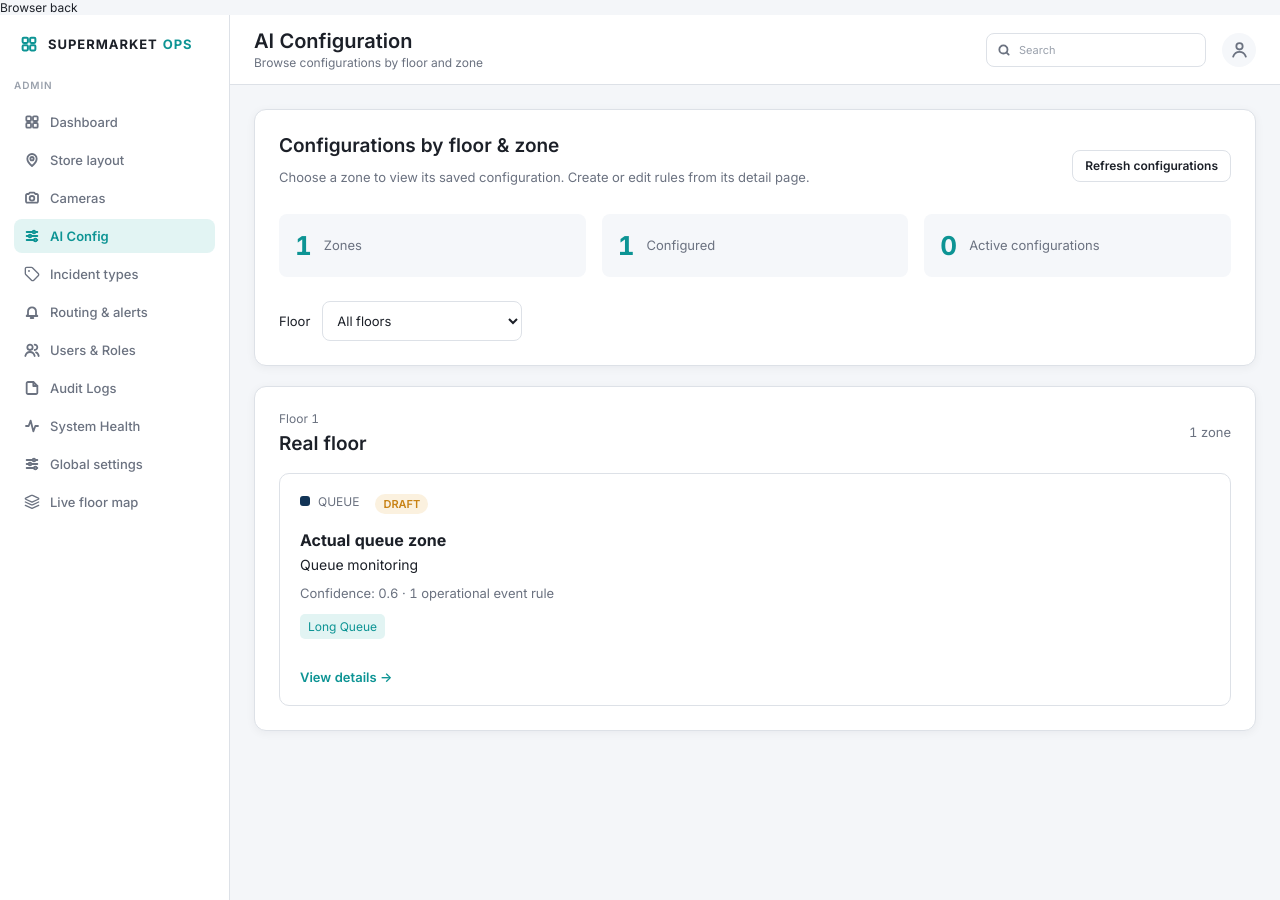
it: API-backed monitoring configuration › opens read-only detail, then Edit and Cancel discard input without an API write
Step 1. Click the button with aria-label "Open AI configuration for Actual queue zone" → (755, 589), box [279,473,1231,706]
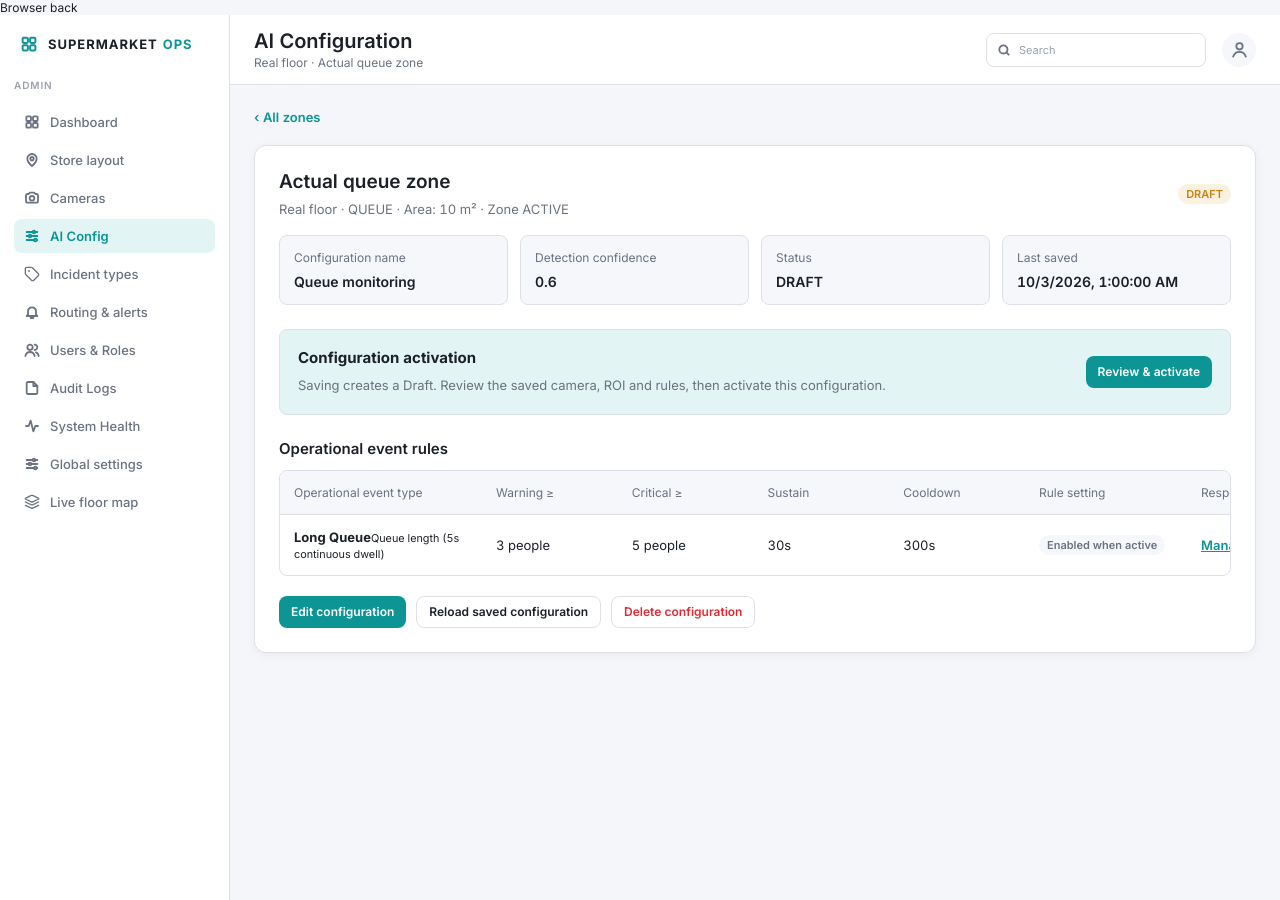
Step 2. Click the button "Edit configuration" → (343, 612), box [279,596,406,628]
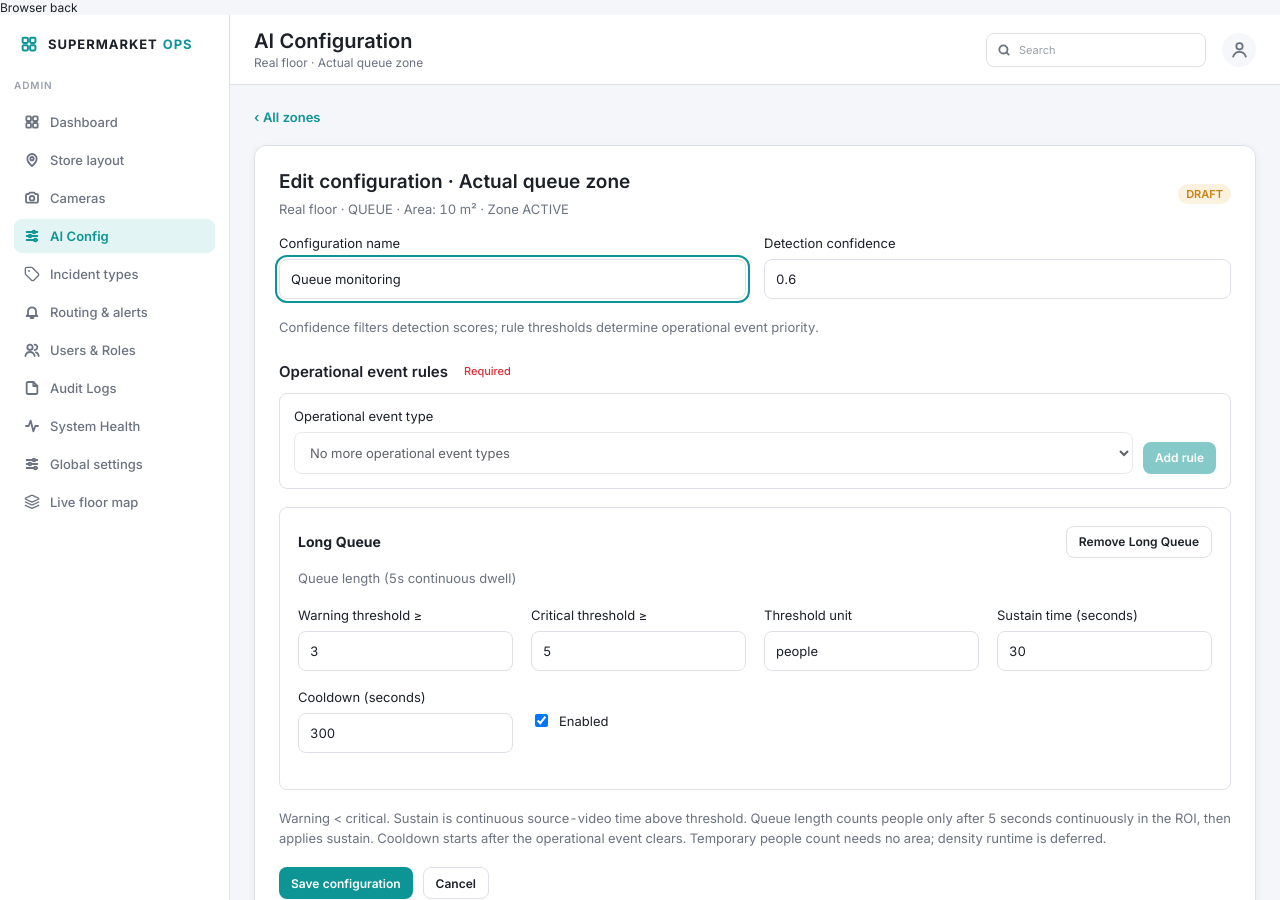
Step 3. Replace the text in the field labelled "Configuration name" with "Unsaved change" → (512, 279), box [279,259,746,299]
(page scrolled)
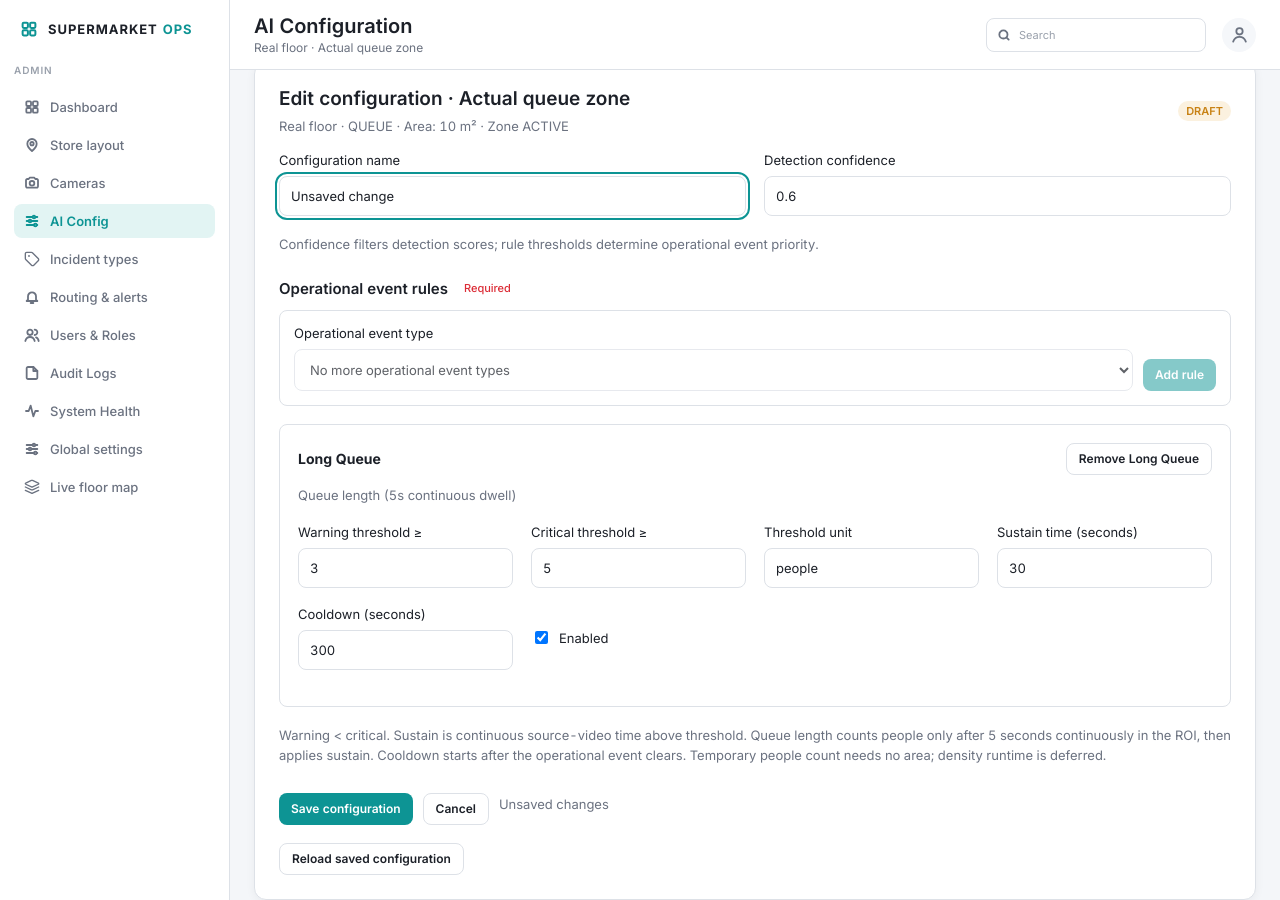
Step 4. Click the button "Cancel" → (456, 809), box [423,793,489,825]
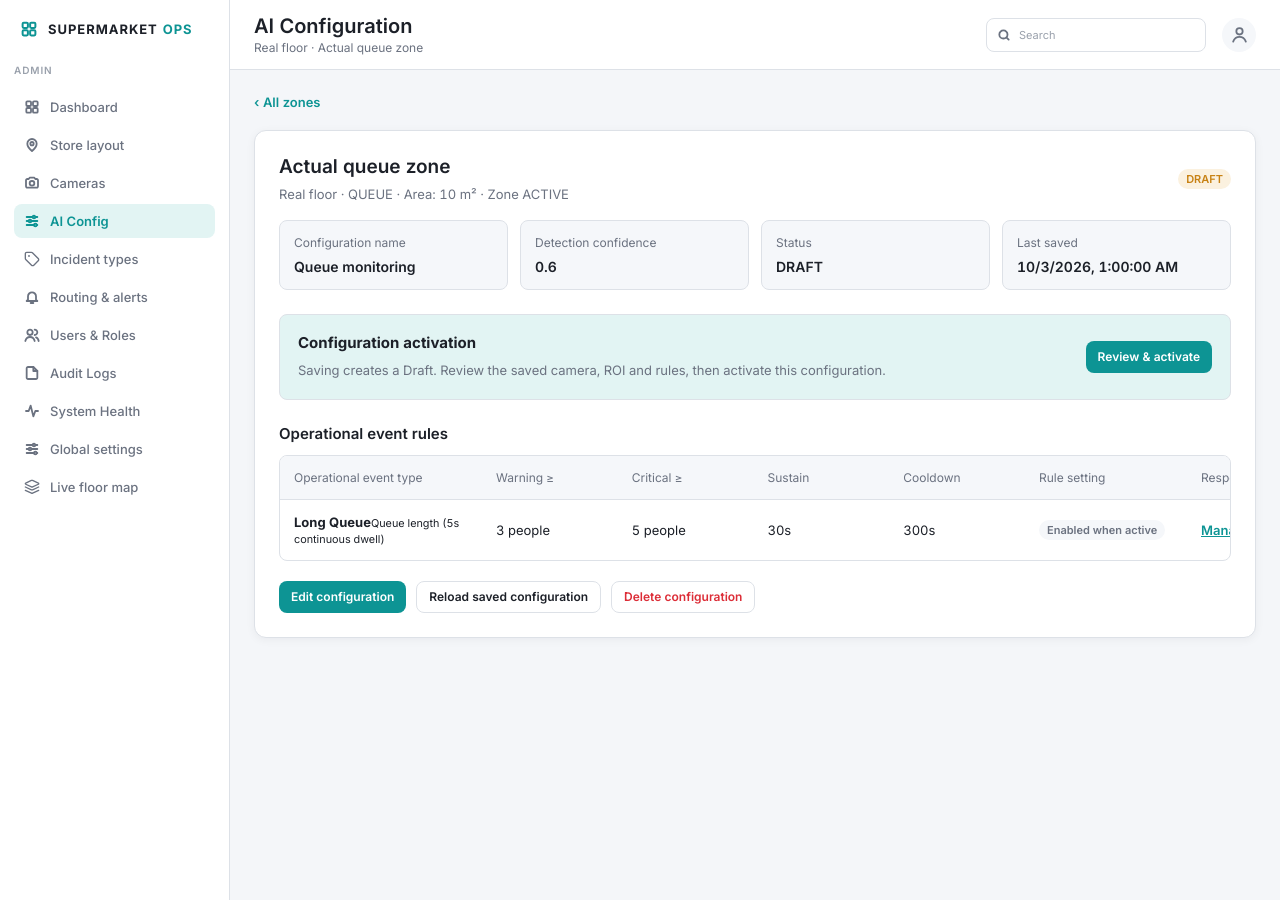
Now the heading "Actual queue zone" is shown, box [279,155,450,178]
Step 5. Click the button "Edit configuration" → (343, 597), box [279,581,406,613]
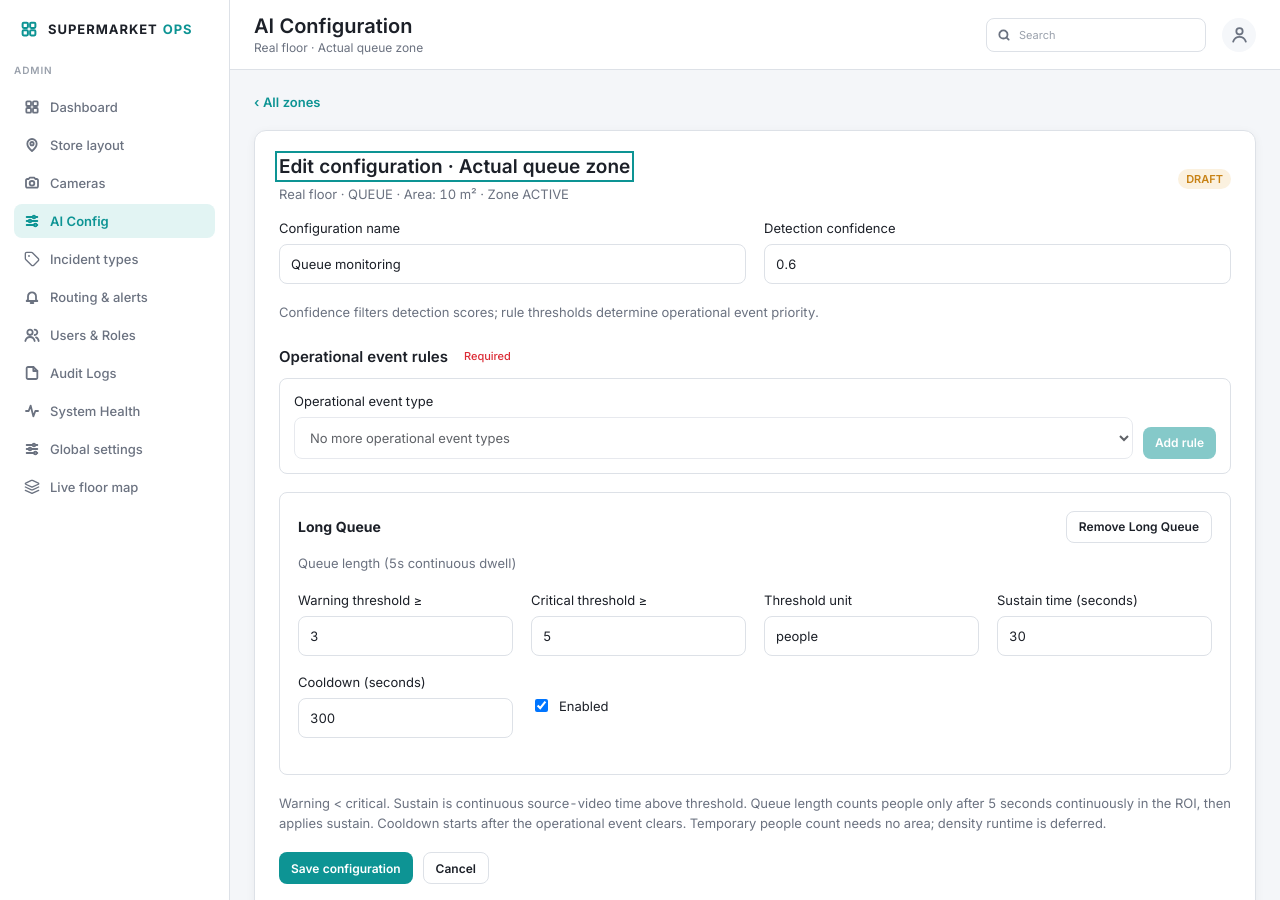
Now the field labelled "Configuration name" holds "Queue monitoring", box [279,244,746,284]
